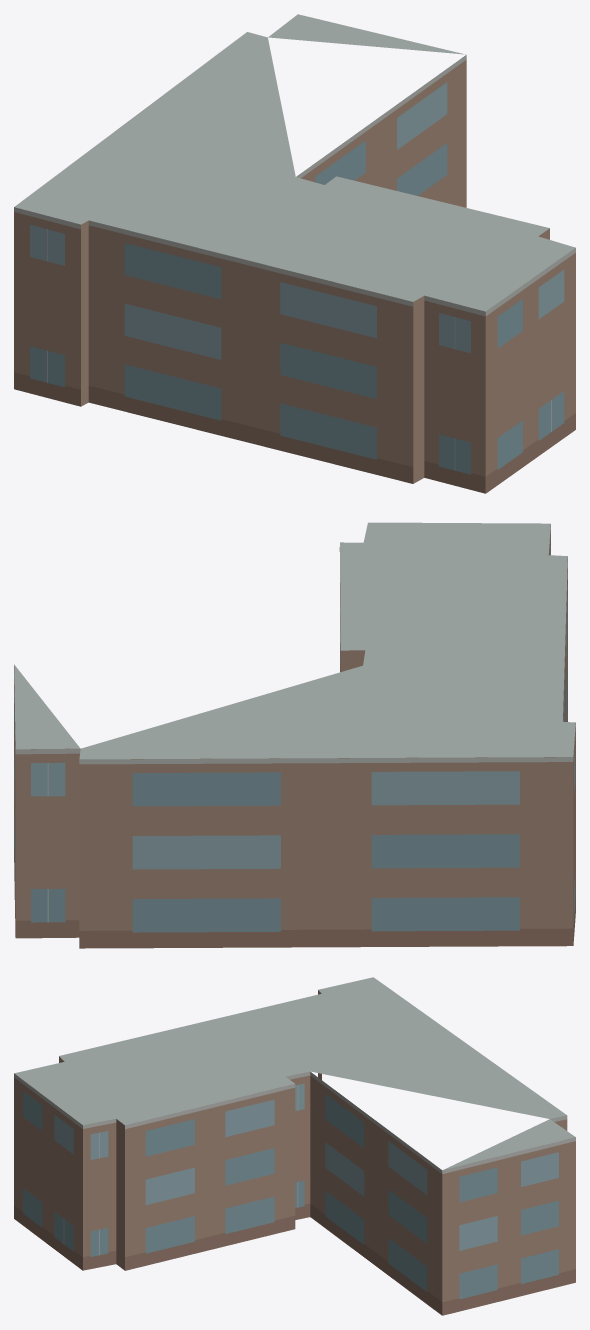
Rendered from survey-upis-32978892.glb.
The picture shows the model from 3 angles, top to bottom: view 1: azimuth 30°, elevation 25°; view 2: azimuth 150°, elevation 25°; view 3: azimuth 270°, elevation 25°; orthographic projection. The views are drawn at different scales.
Visible parts, largest first — view 1: survey-upis-32978892.tmp; view 2: survey-upis-32978892.tmp; view 3: survey-upis-32978892.tmp.
Part boxes in pixels (x1,y1,x2,y2): survey-upis-32978892.tmp: (14,14,575,493); survey-upis-32978892.tmp: (14,522,575,948); survey-upis-32978892.tmp: (14,977,575,1315).
Size of the model in its own units: 26.07 by 9.15 by 32.04.
